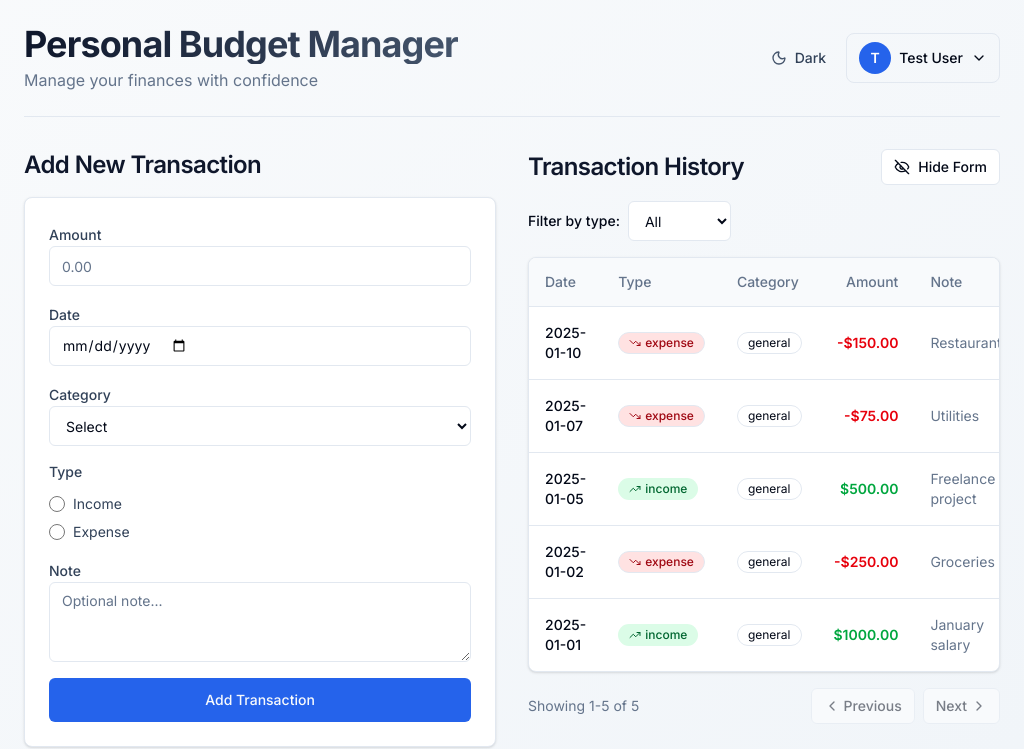
Scenario: TransactionManager › Authenticated state › persists filter selection when adding new transactions
Expected: the text "Restaurant" is shown, [914,306,999,379]
Filter by expense
Select "Expense" in the dropdown labelled "Filter by type:": (679, 221) [628,201,731,241]
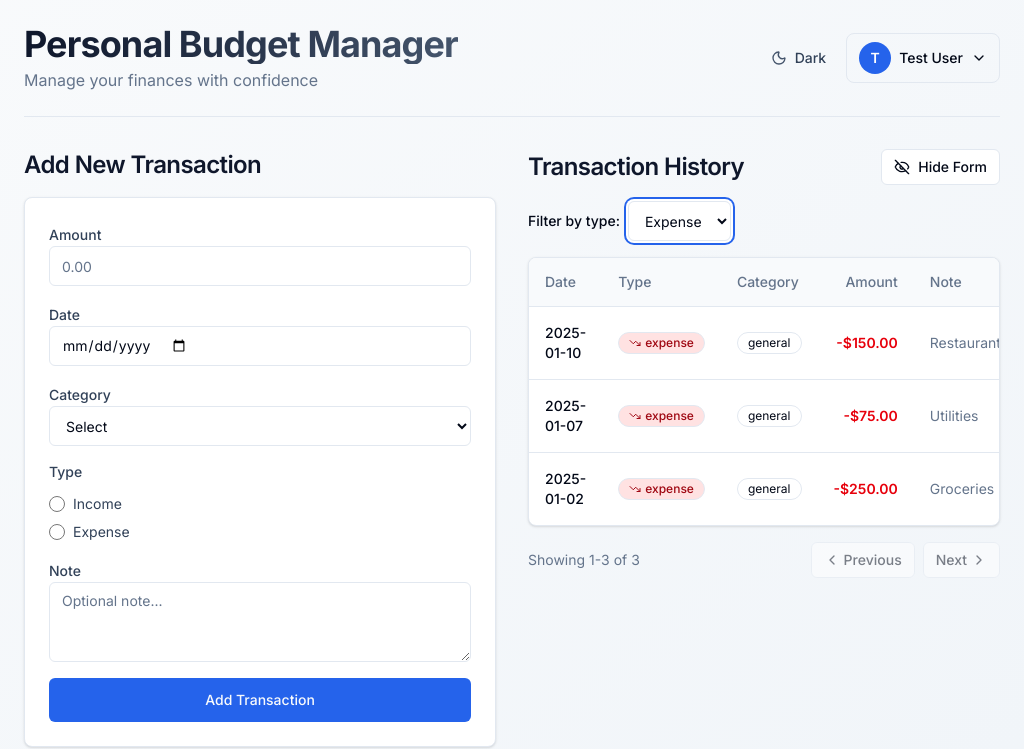
Expected: the text "Restaurant" is shown, [914,306,999,379]
Now the text "January salary" is gone
Add a new expense
In the number field labelled "Amount": (260, 266) [49,246,471,286], type "75"
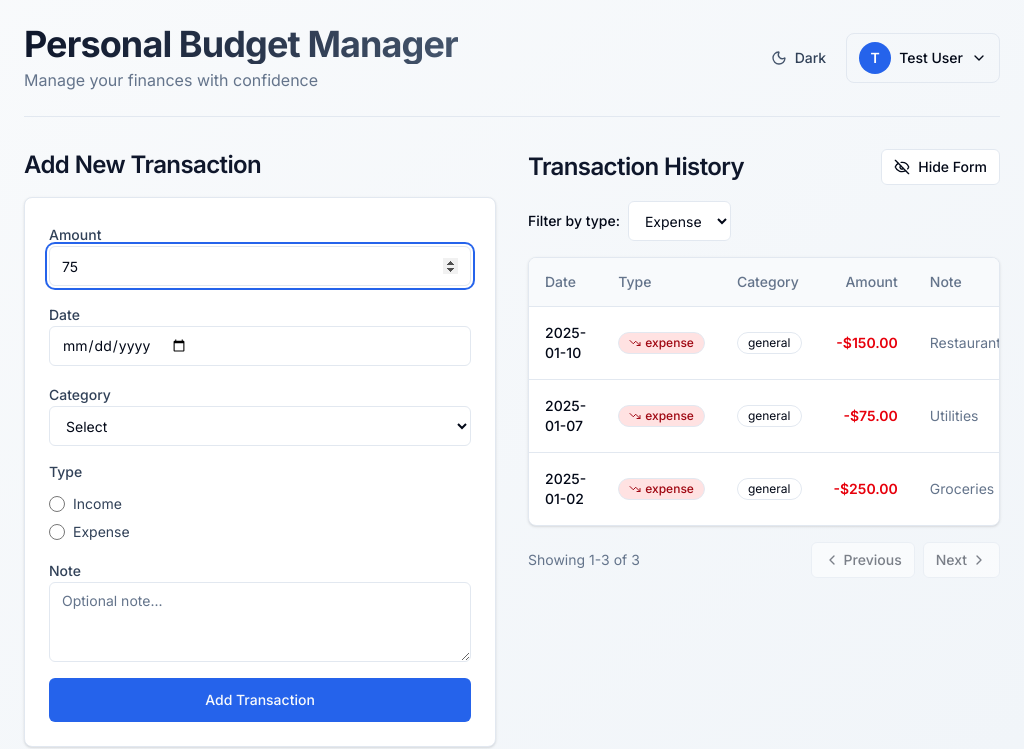
In the date field labelled "Date": (260, 346) [49,326,471,366], type "2025-01-20"
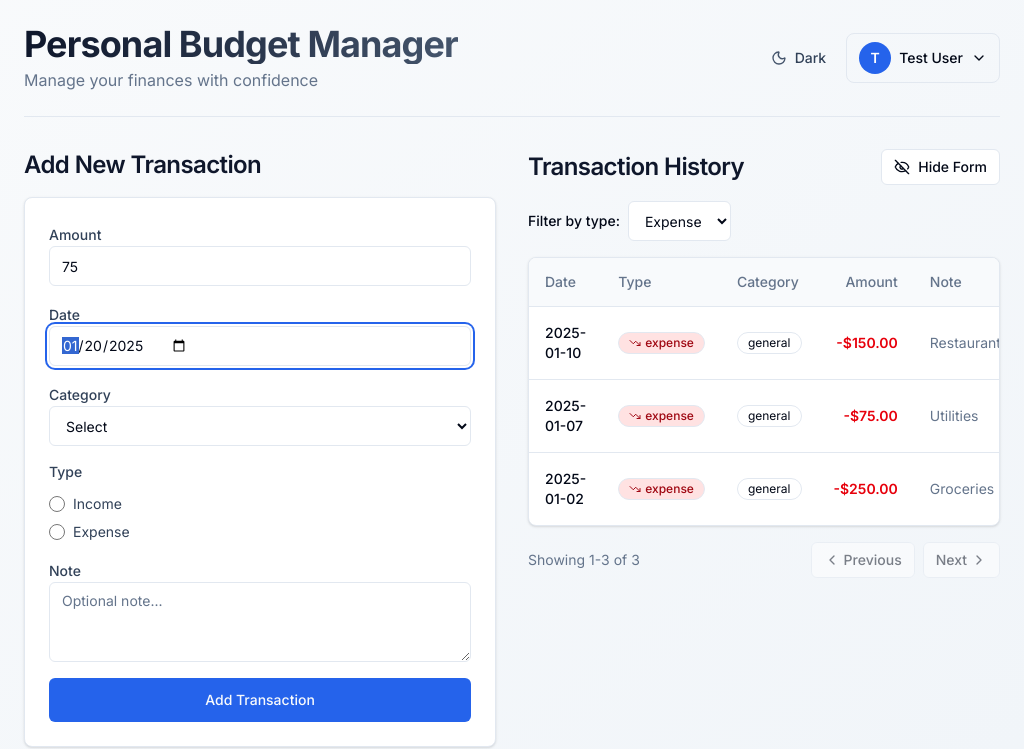
Select "General" in the dropdown labelled "Category": (260, 426) [49,406,471,446]
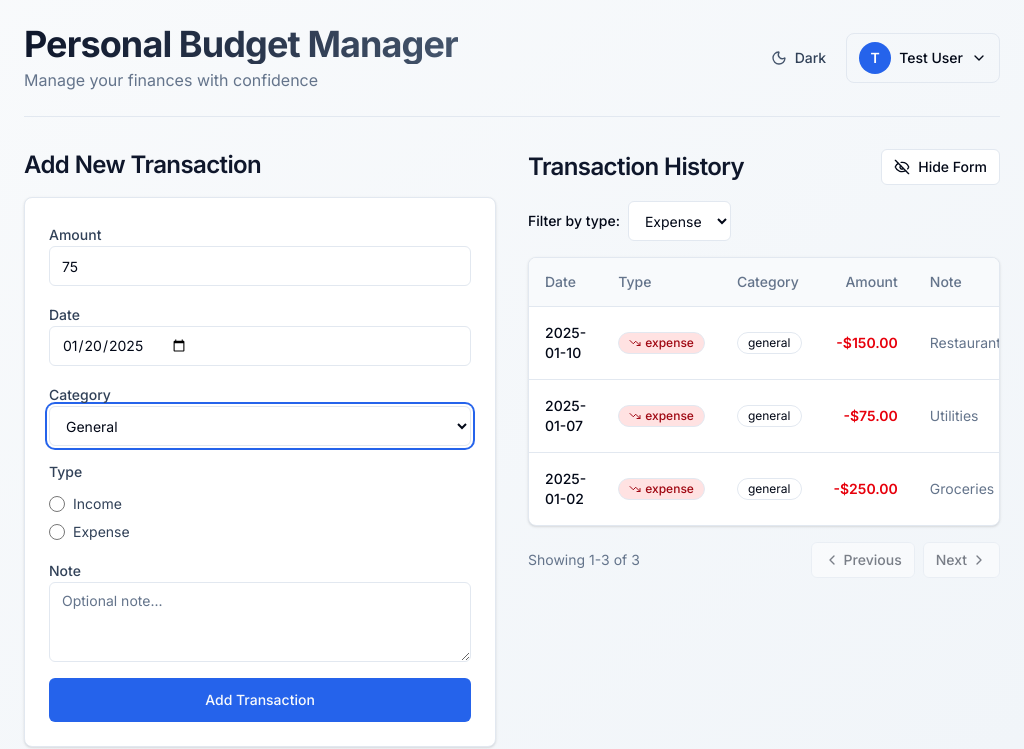
Click the radio button labelled "Expense": click(57, 532) [49,524,65,540]
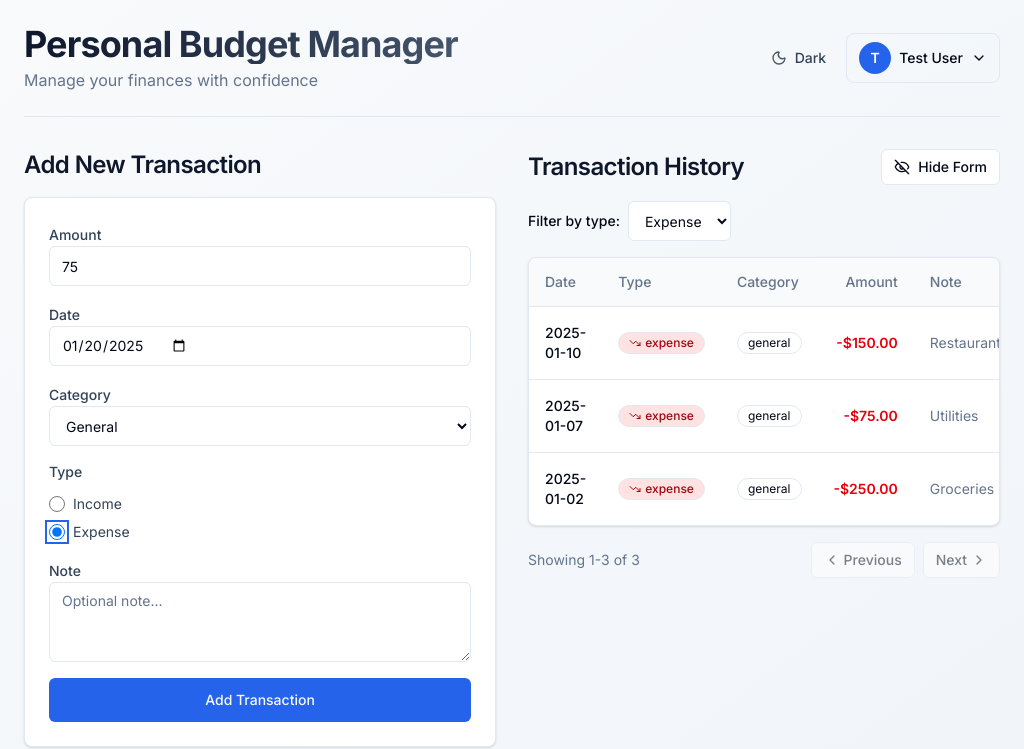
In the text box labelled "Note": (260, 622) [49,582,471,662], type "New expense"
Click the button "Add Transaction": click(260, 700) [49,678,471,722]
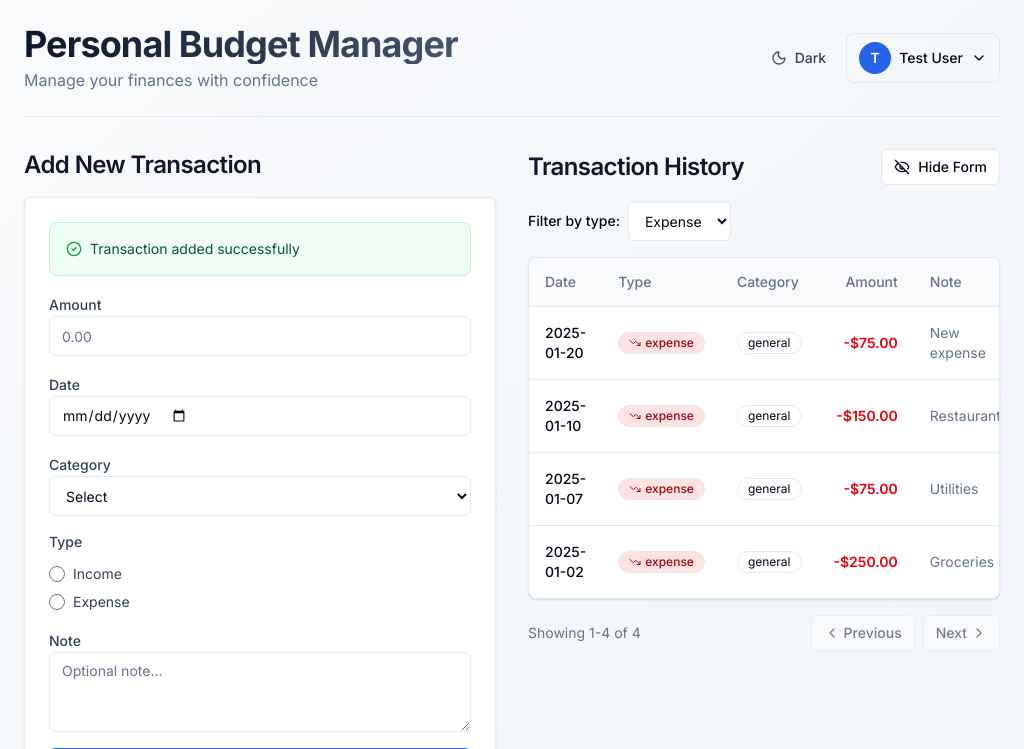
Expected: the text "January salary" is not shown
Now the text "New expense" is shown, box [914,306,999,379]
